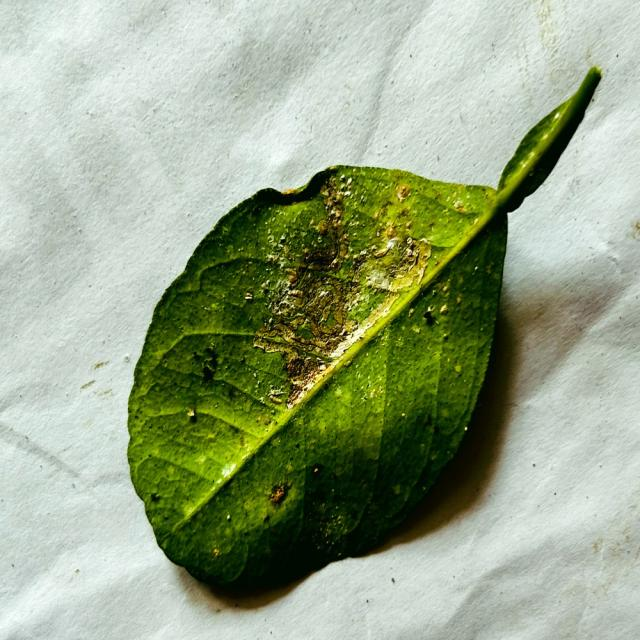Bacterial_Blight: (283, 226, 432, 392), (262, 259, 357, 355), (289, 184, 349, 276), (372, 187, 422, 249), (260, 325, 339, 361), (383, 239, 430, 292), (392, 232, 436, 287), (264, 275, 311, 321), (282, 352, 330, 397), (322, 182, 346, 221), (363, 265, 394, 291), (199, 347, 219, 380), (374, 236, 400, 259), (375, 200, 395, 223), (287, 358, 306, 381), (267, 389, 286, 403), (270, 487, 286, 503), (284, 268, 299, 284), (255, 415, 274, 427), (396, 184, 410, 200), (283, 246, 294, 262), (267, 253, 280, 265), (316, 222, 328, 235), (386, 225, 397, 238), (399, 206, 410, 218), (237, 435, 246, 448), (485, 263, 494, 275), (455, 204, 467, 213), (282, 188, 297, 195), (293, 289, 303, 299), (433, 189, 442, 200), (260, 281, 270, 290), (336, 190, 345, 199), (244, 292, 253, 301), (302, 246, 311, 255), (187, 409, 195, 418), (373, 210, 380, 219), (456, 296, 462, 305), (473, 217, 479, 226)
Lemon: (125, 70, 600, 608)
